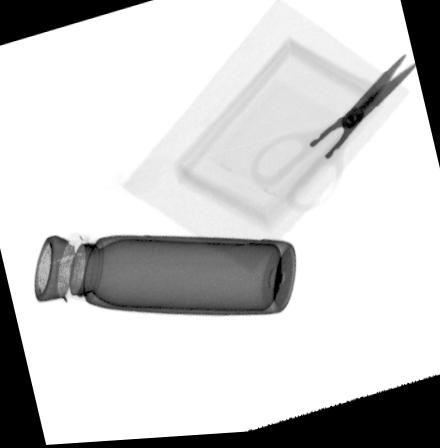Scissors: (249, 58, 415, 215)
